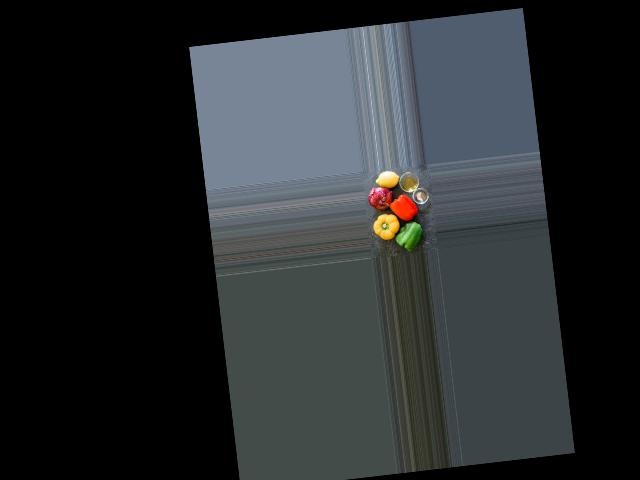bell_pepper: (388, 193, 419, 222)
